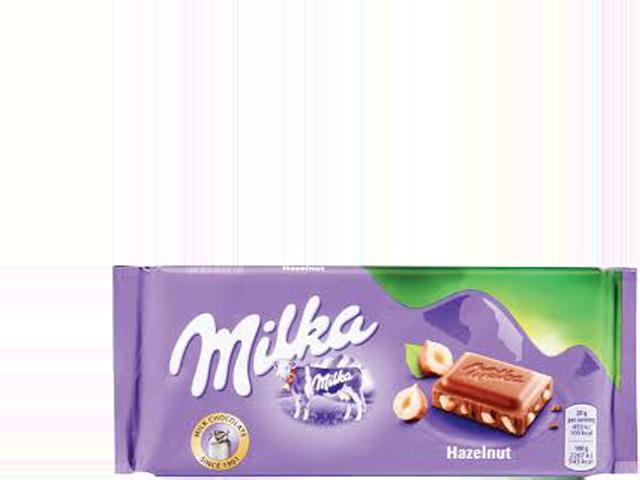chocolate: (112, 265, 638, 478)
